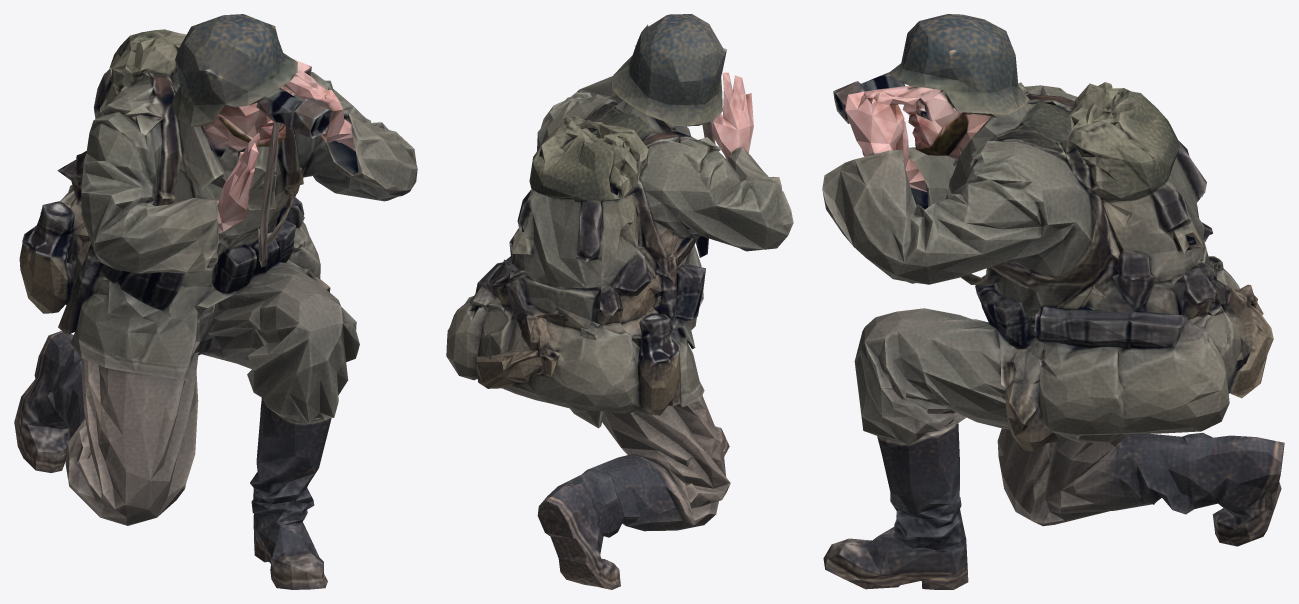
File: crew_spotter.obj
3 renders of one model, left to right at view 1: azimuth 30°, elevation 25°; view 2: azimuth 150°, elevation 25°; view 3: azimuth 270°, elevation 25°, orthographic. The views are drawn at different scales.
Parts seen in each view (by area): view 1: crew_spotter; view 2: crew_spotter; view 3: crew_spotter.
Boxes of the visible parts, box(x1,y1,x2,y2) form: crew_spotter: box(14, 14, 417, 589); crew_spotter: box(446, 14, 793, 589); crew_spotter: box(822, 14, 1284, 589).
Size of the model in its own units: 0.7669 by 1.35 by 1.03.
Materials: 1 (1 with a texture image).
